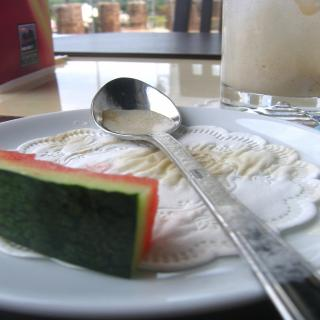Watermelon: (0, 146, 159, 279)
